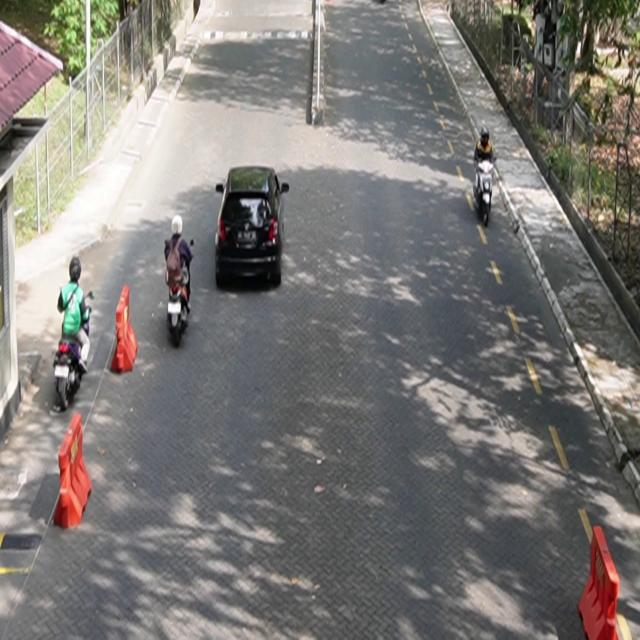car: (215, 165, 290, 289)
